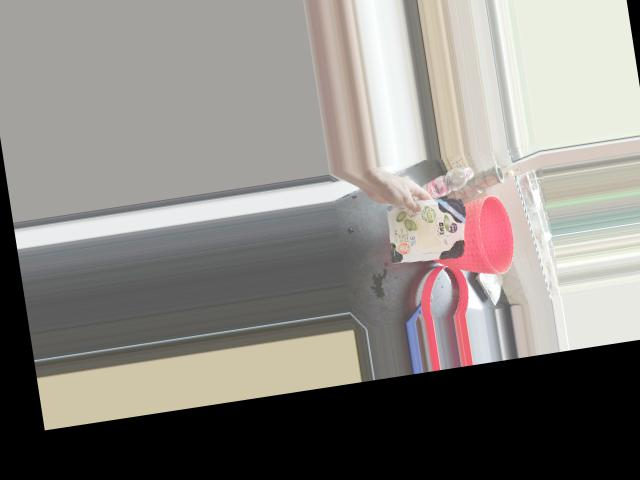cheese: (387, 179, 472, 266)
